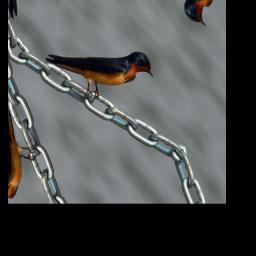Swallow: (43, 1, 160, 130)
